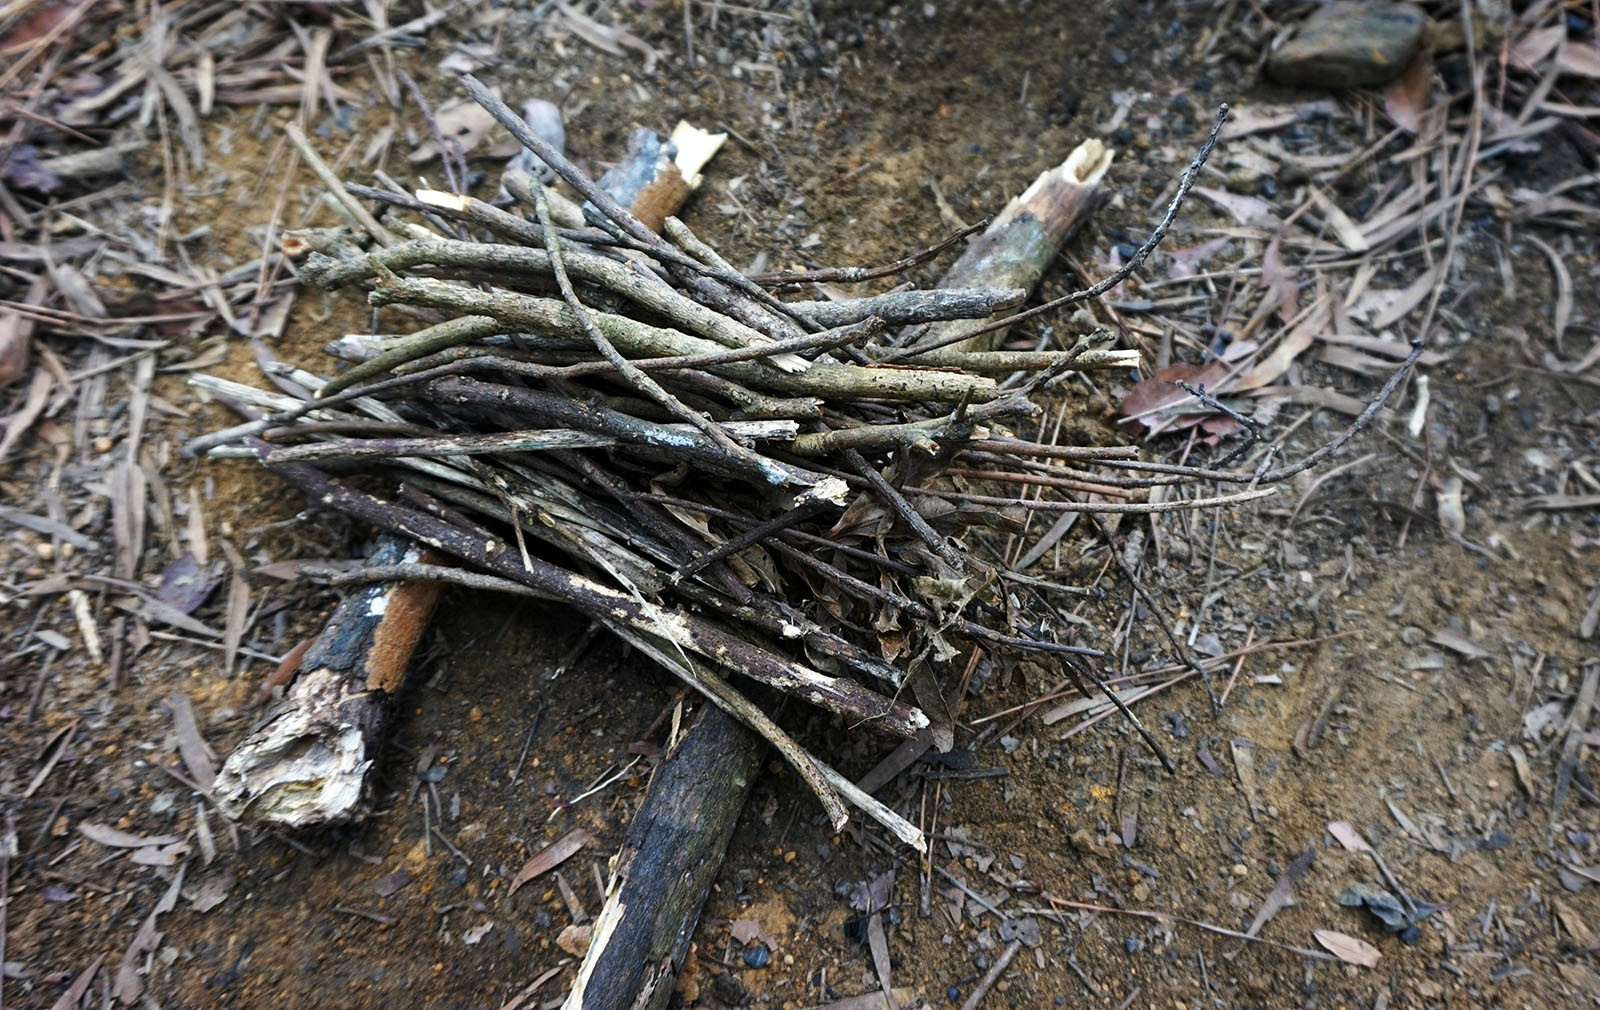wood_together: (31, 54, 957, 734)
